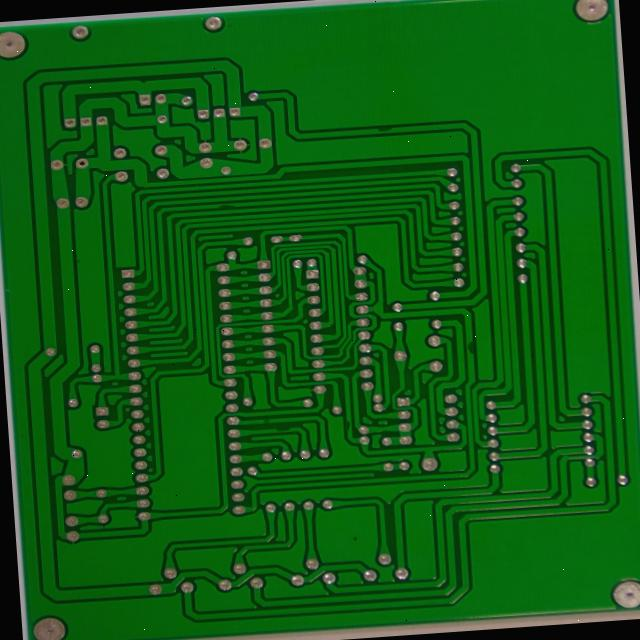mouse_bite: (359, 111, 384, 123), (455, 330, 469, 350), (194, 189, 219, 200), (254, 420, 277, 430), (329, 412, 341, 429)
